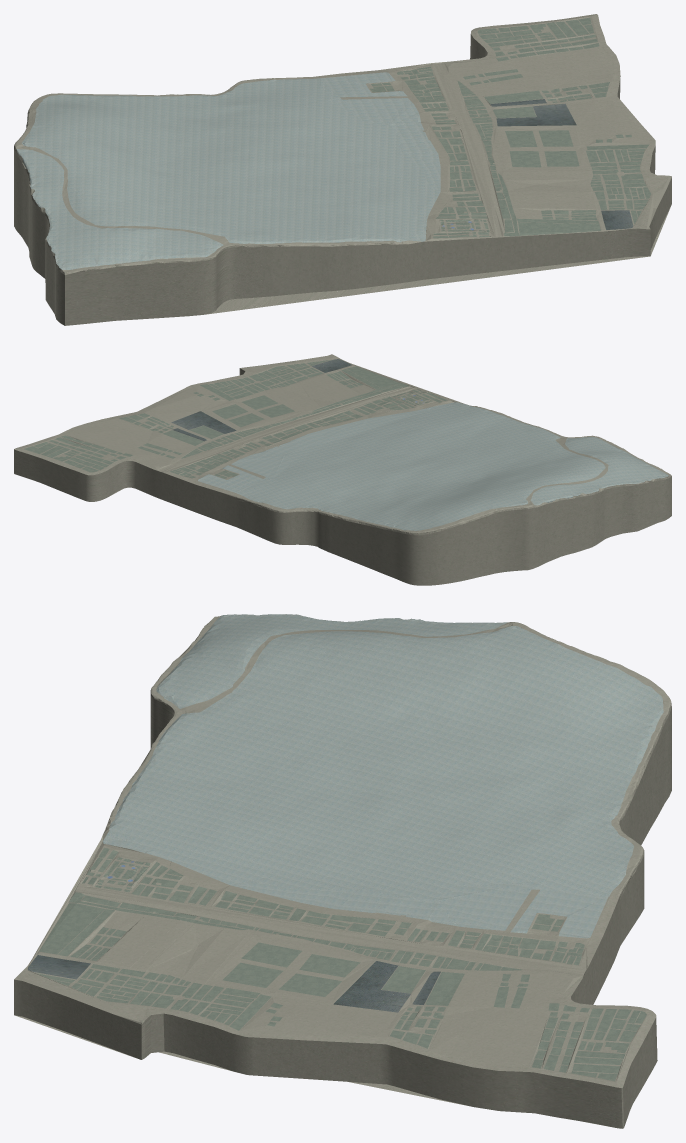
The model's file is tableCampagne.fbx.
3 views of the same model, one above another, from view 1: azimuth 30°, elevation 25°; view 2: azimuth 150°, elevation 25°; view 3: azimuth 270°, elevation 25° (orthographic). The views are drawn at different scales.
Visible parts, largest first — view 1: tableCampagne; view 2: tableCampagne; view 3: tableCampagne.
Boxes of the visible parts, x1=… form: tableCampagne: x1=14, y1=14, x2=671, y2=325; tableCampagne: x1=14, y1=354, x2=671, y2=585; tableCampagne: x1=14, y1=614, x2=671, y2=1128.
Size of the model in its own units: 166 by 18.78 by 104.
5 materials, 5 textured.
